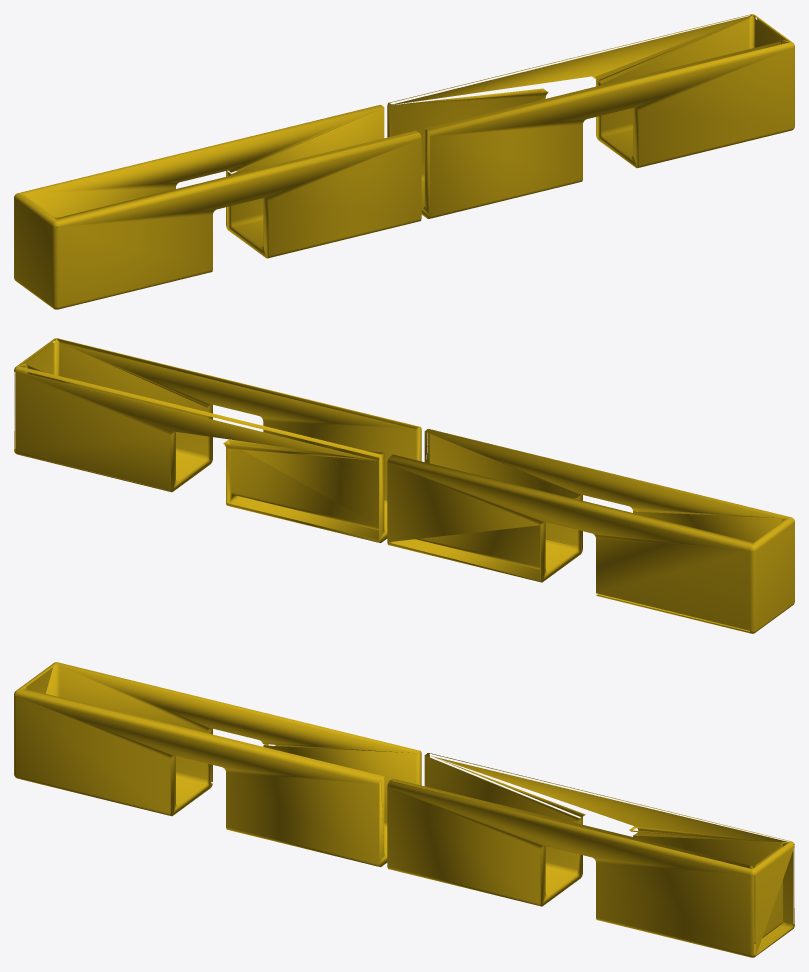
The model's file is connect4thingy.obj.
3 views of the same model, one above another, from view 1: azimuth 30°, elevation 25°; view 2: azimuth 150°, elevation 25°; view 3: azimuth 330°, elevation 25° (orthographic).
Visible parts, largest first — view 1: 4gewinnt.001; view 2: 4gewinnt.001; view 3: 4gewinnt.001.
Part boxes in pixels (x1,y1,x2,y2): 4gewinnt.001: (14, 14, 794, 309); 4gewinnt.001: (14, 338, 794, 633); 4gewinnt.001: (14, 662, 794, 957).
Size of the model in its own units: 6.07 by 0.69 by 0.6038.
